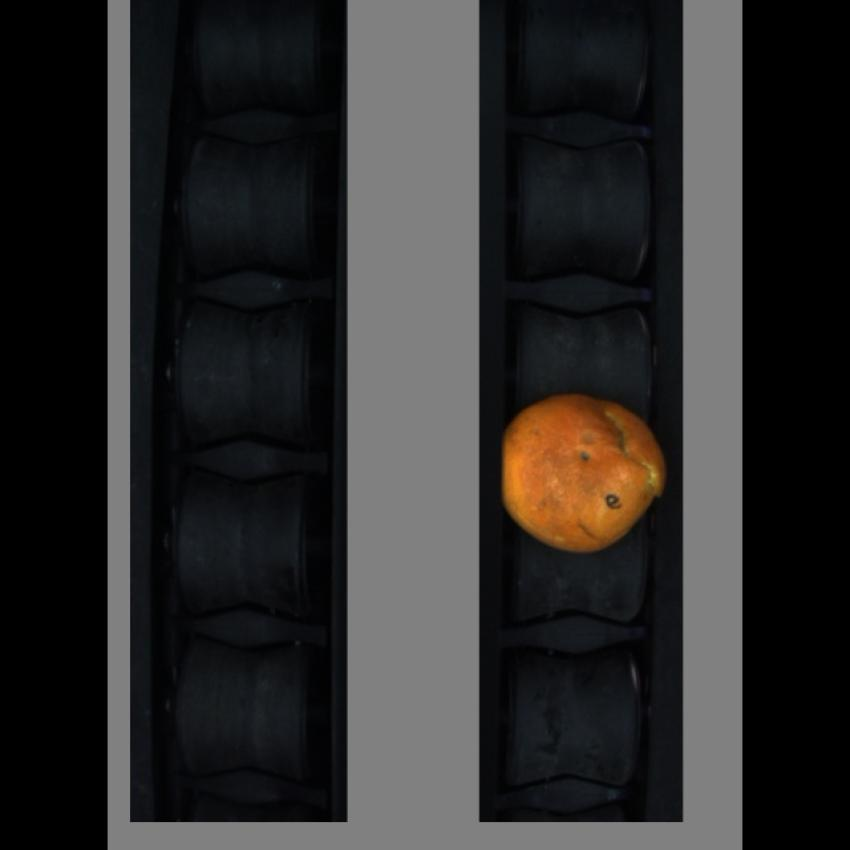Mal estado: (497, 377, 672, 568)
